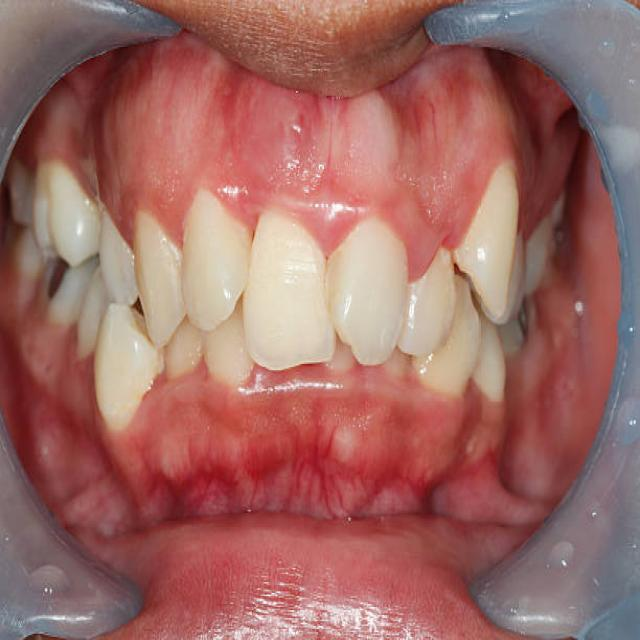Gingivitis: (142, 416, 434, 511), (378, 78, 447, 148), (216, 62, 256, 140)
